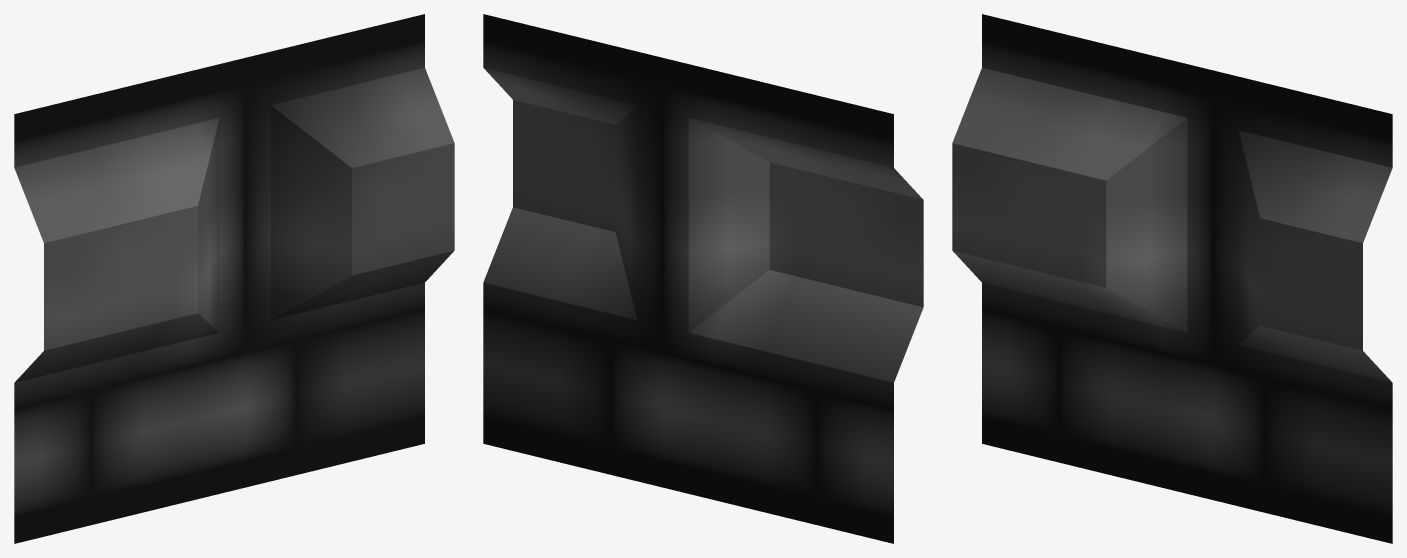
File: wall_upper.obj
The picture shows the model from 3 angles, left to right: view 1: azimuth 30°, elevation 25°; view 2: azimuth 150°, elevation 25°; view 3: azimuth 330°, elevation 25°; orthographic projection.
Parts seen in each view (by area): view 1: Default; view 2: Default; view 3: Default.
Boxes of the visible parts, x1,y1,x2,y2 form: Default: (14, 14, 454, 543); Default: (483, 14, 923, 543); Default: (952, 14, 1392, 543).
Size of the model in its own units: 1 by 1 by 0.125.
